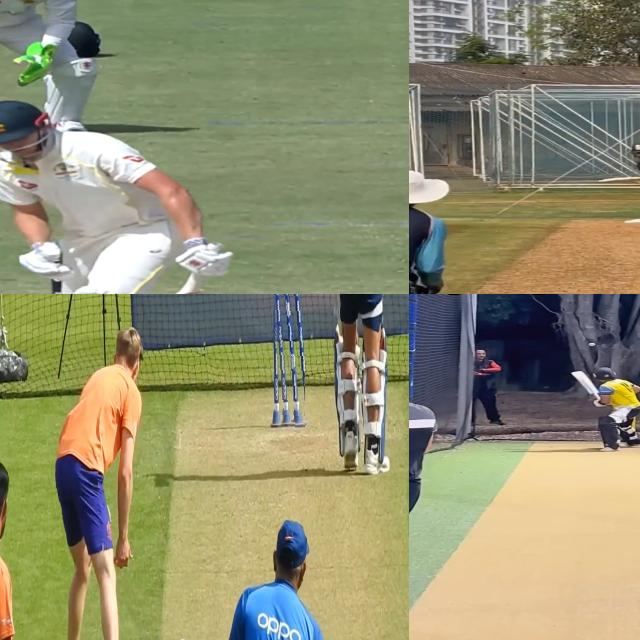Cricket ball: (175, 634, 191, 640), (588, 343, 596, 348)
Stumps: (270, 294, 305, 428)
